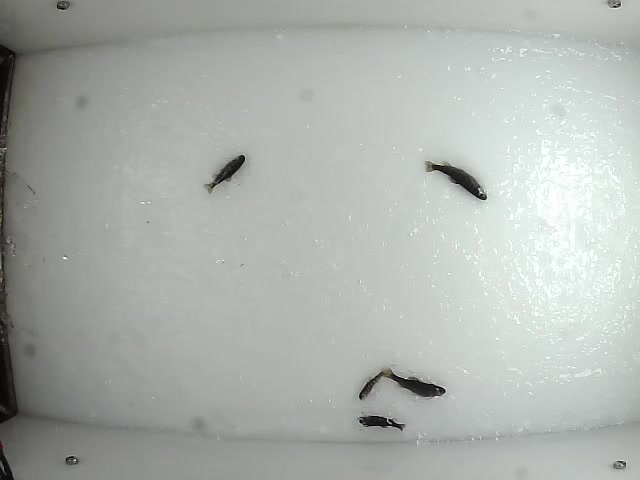fish: (424, 159, 488, 201), (382, 366, 447, 399), (201, 151, 246, 197), (356, 367, 388, 402), (356, 414, 409, 434)
